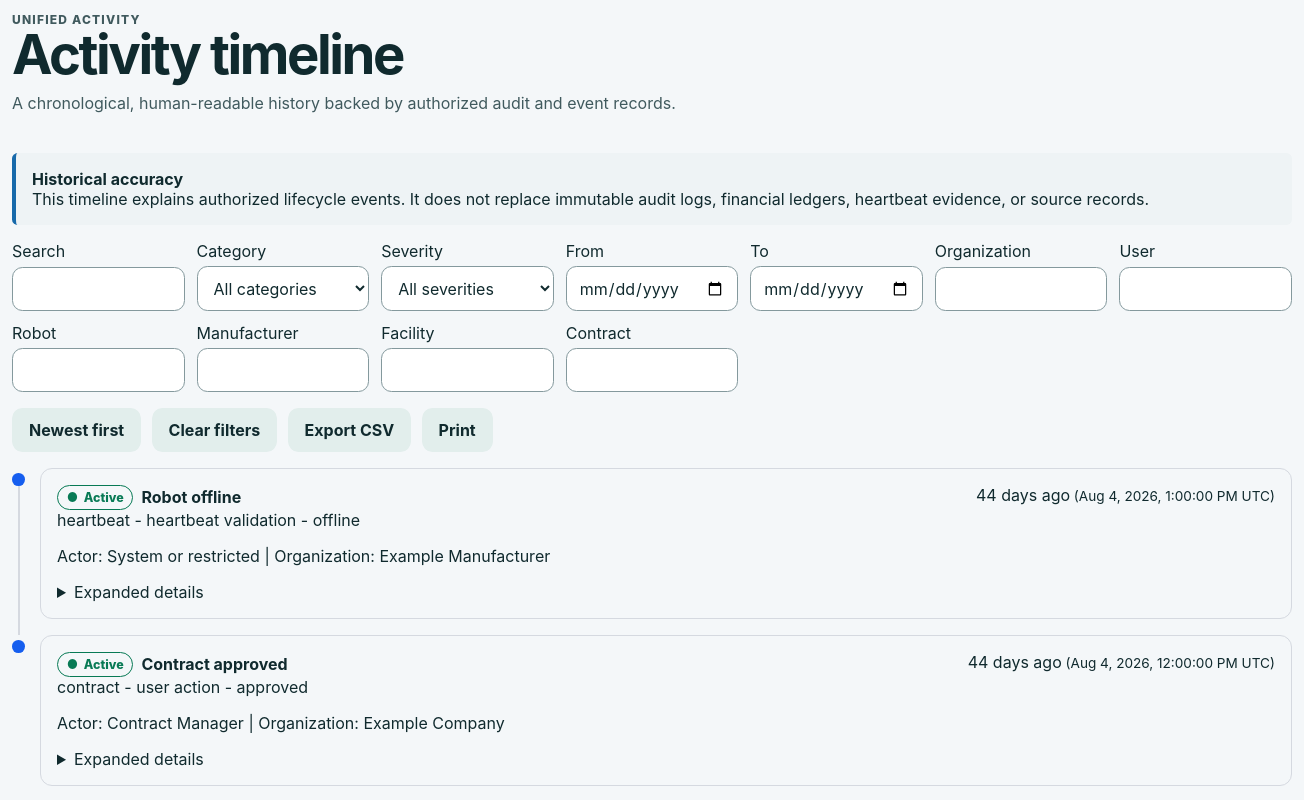
Scenario: Appendix O unified activity timeline › filters by category
The image size is (1304, 800).
Select "contract" in the dropdown named "Activity category": (283, 289) top-left (197, 266), bottom-right (369, 311)
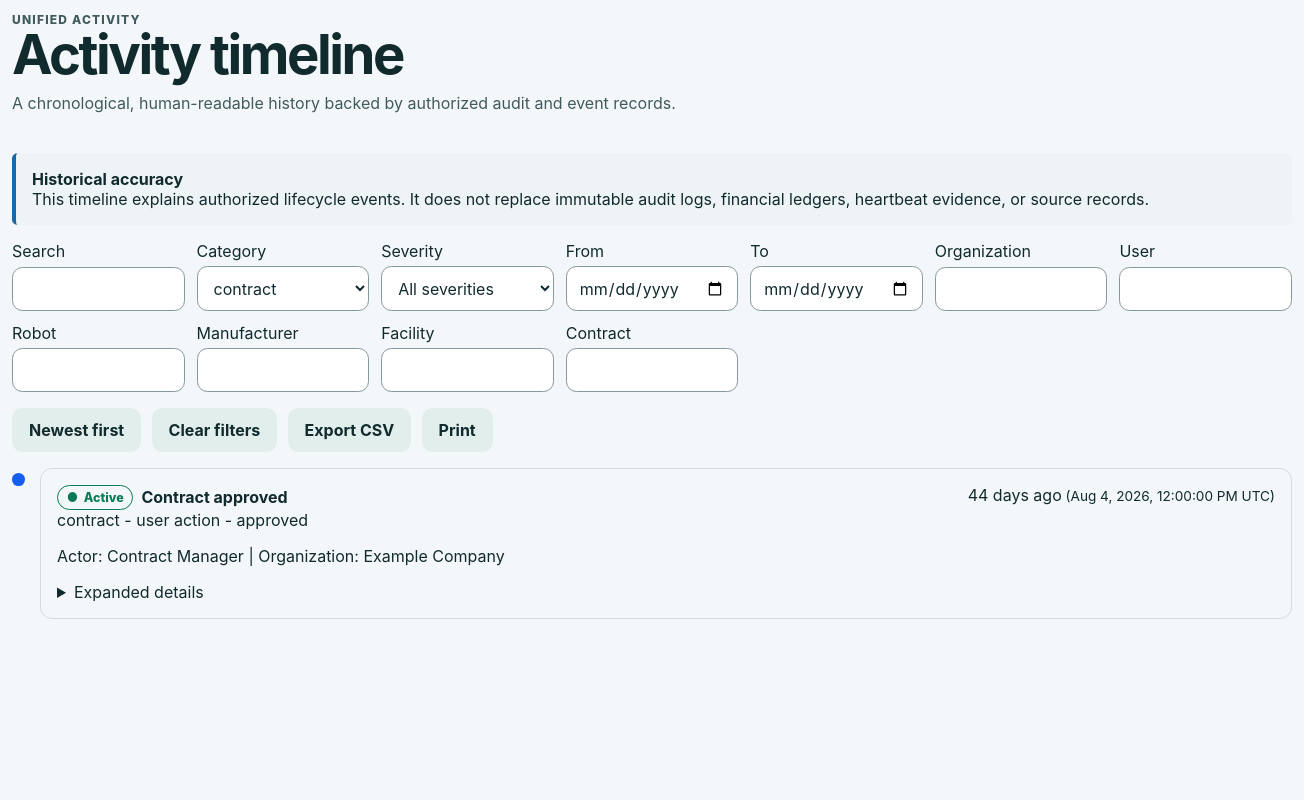
Expected: the text "Contract approved" is shown, top-left (142, 487), bottom-right (288, 507)
Result: the text "Robot offline" is gone
